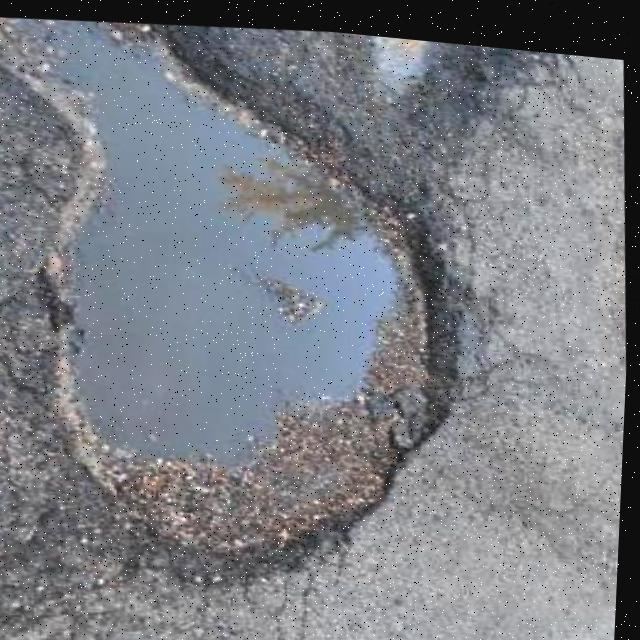Pothole: (16, 21, 502, 614), (359, 27, 535, 122)
